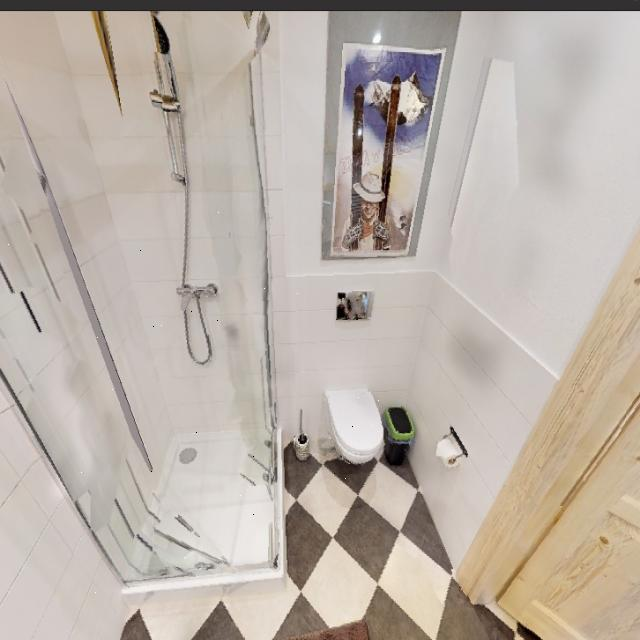shower: (0, 9, 304, 593)
toilet: (322, 377, 389, 480)
